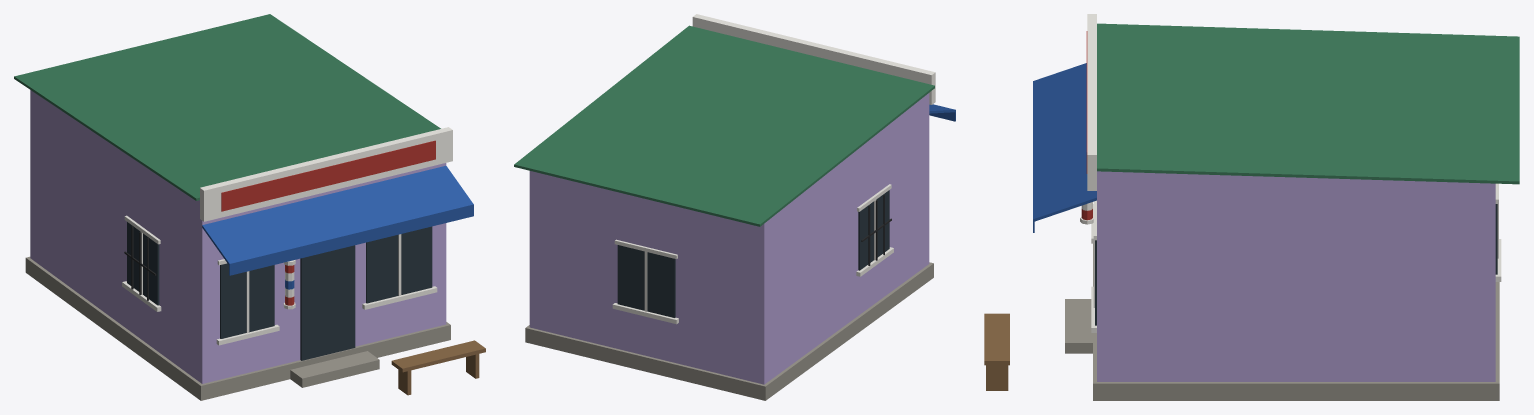
The model's file is BAY_F_Shop_H.glb.
3 views of the same model, side by side, from view 1: azimuth 30°, elevation 25°; view 2: azimuth 150°, elevation 25°; view 3: azimuth 270°, elevation 25° (orthographic). The views are drawn at different scales.
Visible parts, largest first — view 1: BAY_F_Shop_H; view 2: BAY_F_Shop_H; view 3: BAY_F_Shop_H.
Boxes of the visible parts, x1,y1,x2,y2 form: BAY_F_Shop_H: [14, 14, 485, 400]; BAY_F_Shop_H: [514, 14, 955, 400]; BAY_F_Shop_H: [984, 14, 1519, 400].
Size of the model in its own units: 4.3 by 3.4 by 6.71.
1 material, 1 textured.
